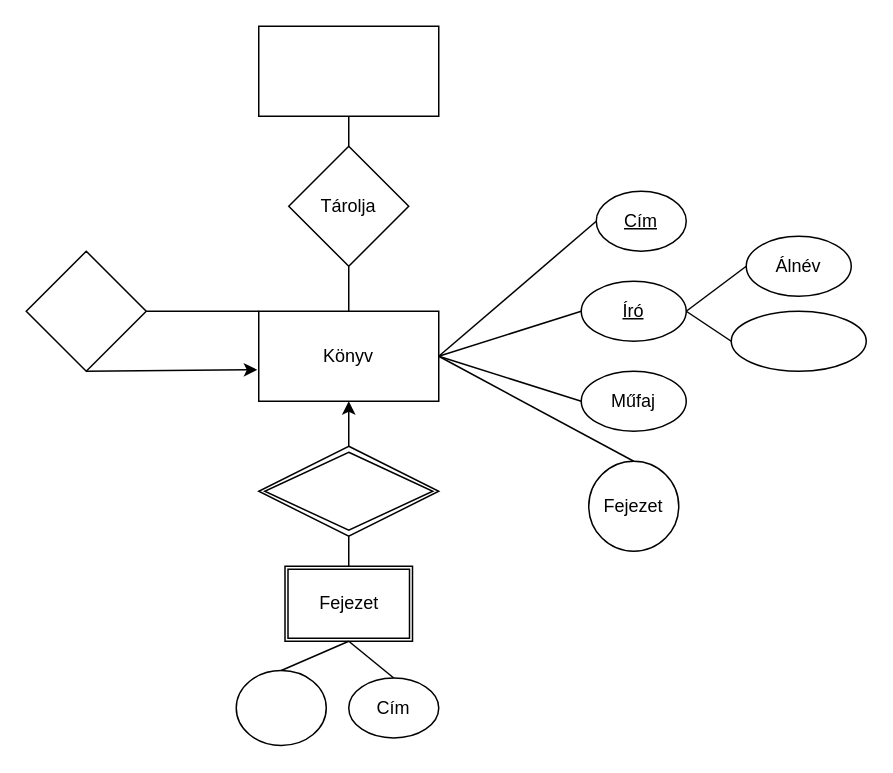
Some shapes in this 893 by 773 pixel diagram are drawn without their labels. The shapes that lost their labels are listed below. From the top down, each one's centre as x and y in pixels, then its label:
pixel 348 70: Könyvtár
pixel 85 310: Forrása
pixel 798 340: Rendes név
pixel 348 490: Része
pixel 280 707: Szám
